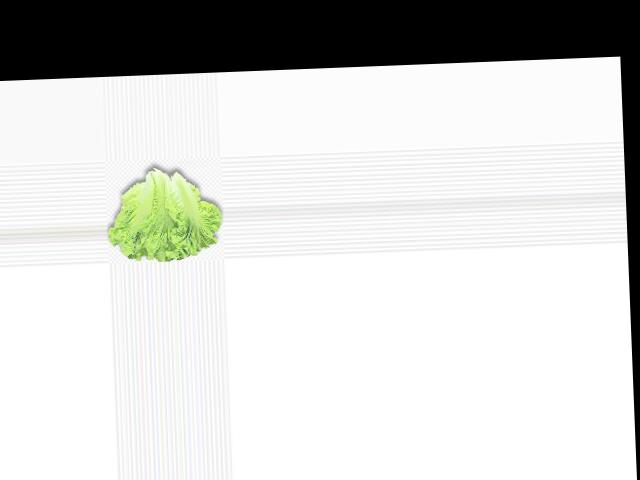lettuce: (108, 163, 226, 262)
